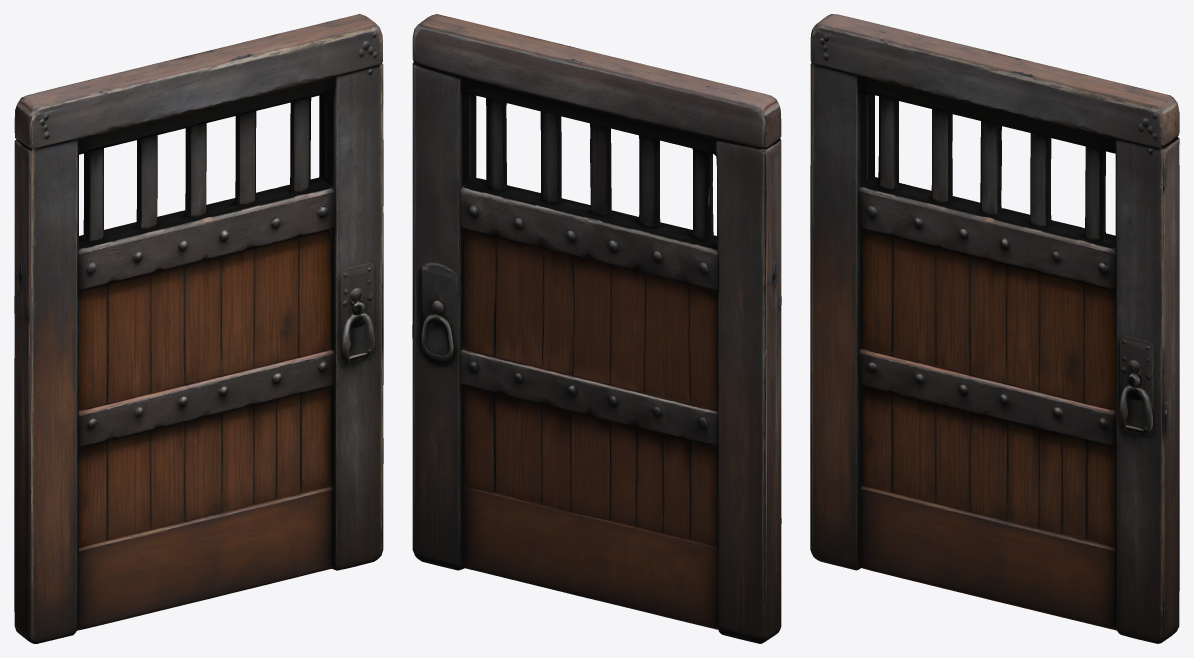
File: Dungeon_Door.glb
The picture shows the model from 3 angles, left to right: view 1: azimuth 30°, elevation 25°; view 2: azimuth 150°, elevation 25°; view 3: azimuth 330°, elevation 25°; orthographic projection.
Parts seen in each view (by area): view 1: model; view 2: model; view 3: model.
Part boxes in pixels (x1=…): model: x1=14, y1=14, x2=383, y2=643; model: x1=412, y1=14, x2=781, y2=643; model: x1=810, y1=14, x2=1179, y2=643.
Size of the model in its own units: 1.27 by 1.84 by 0.1448.
Materials: 1 (1 with a texture image).
